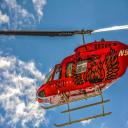helicopter: (30, 22, 128, 128)
